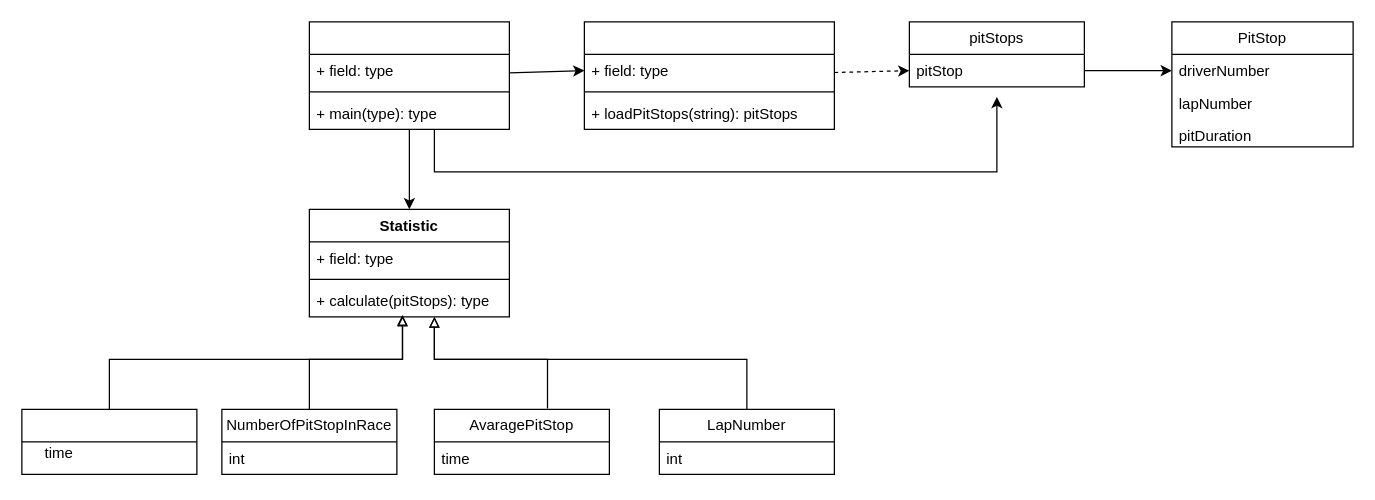
This 1375x500 diagram has some shape labels left out. The shapes that lost their labels are listed below. From the top down, each one's box as (x1, y1, x2, y2) in pixels, then its label:
(308, 21, 509, 129): App
(583, 21, 834, 129): DataLoader
(21, 408, 197, 474): DurationPitStop
